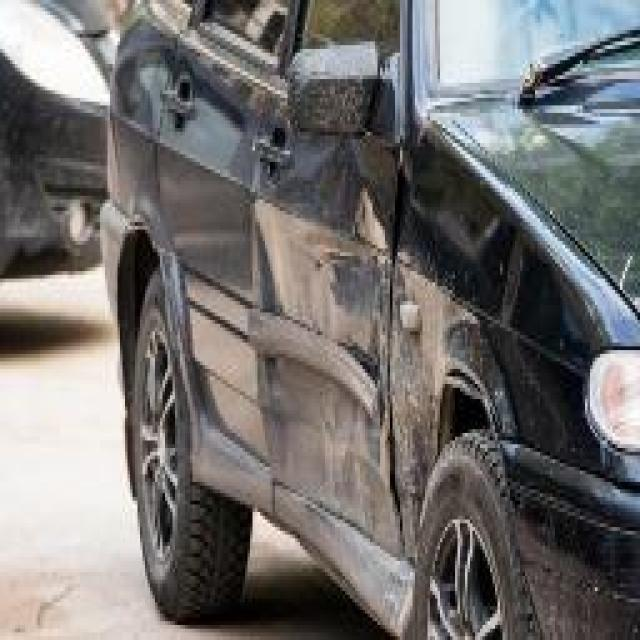Door: (262, 124, 398, 587)
Fender: (398, 188, 518, 440)
